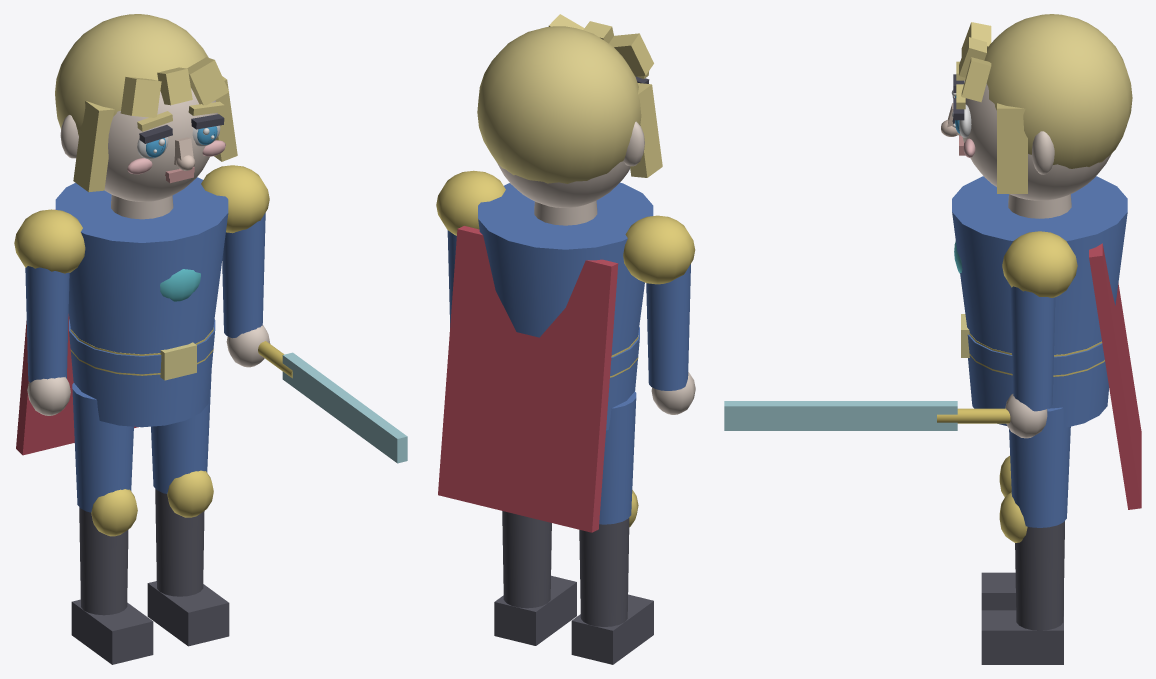
File: human_hero_clear_face_hd.glb
The picture shows the model from 3 angles, left to right: view 1: azimuth 30°, elevation 25°; view 2: azimuth 150°, elevation 25°; view 3: azimuth 270°, elevation 25°; orthographic projection.
Visible parts, largest first — view 1: human_hero_clear_face_hd; view 2: human_hero_clear_face_hd; view 3: human_hero_clear_face_hd.
Boxes of the visible parts, <box> form: human_hero_clear_face_hd: <box>14,14,407,664</box>; human_hero_clear_face_hd: <box>436,14,695,664</box>; human_hero_clear_face_hd: <box>724,14,1141,664</box>.
Size of the model in its own units: 0.84 by 1.98 by 1.22.
